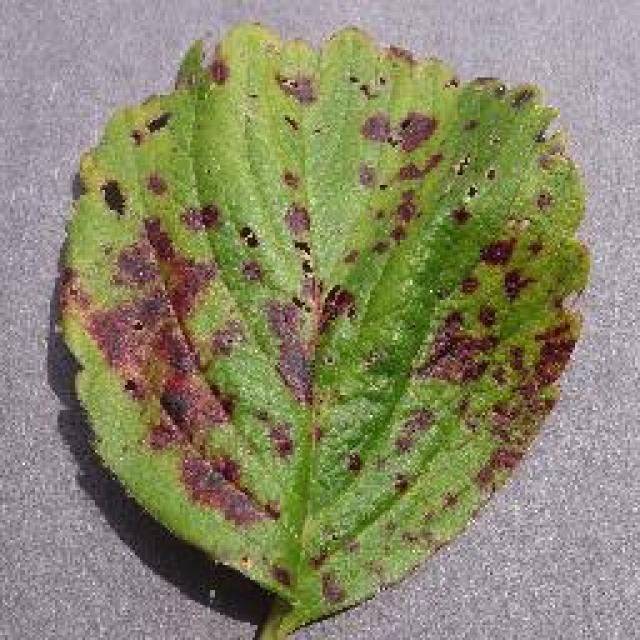Strawberry___Leaf_scorch: (42, 2, 608, 640)
